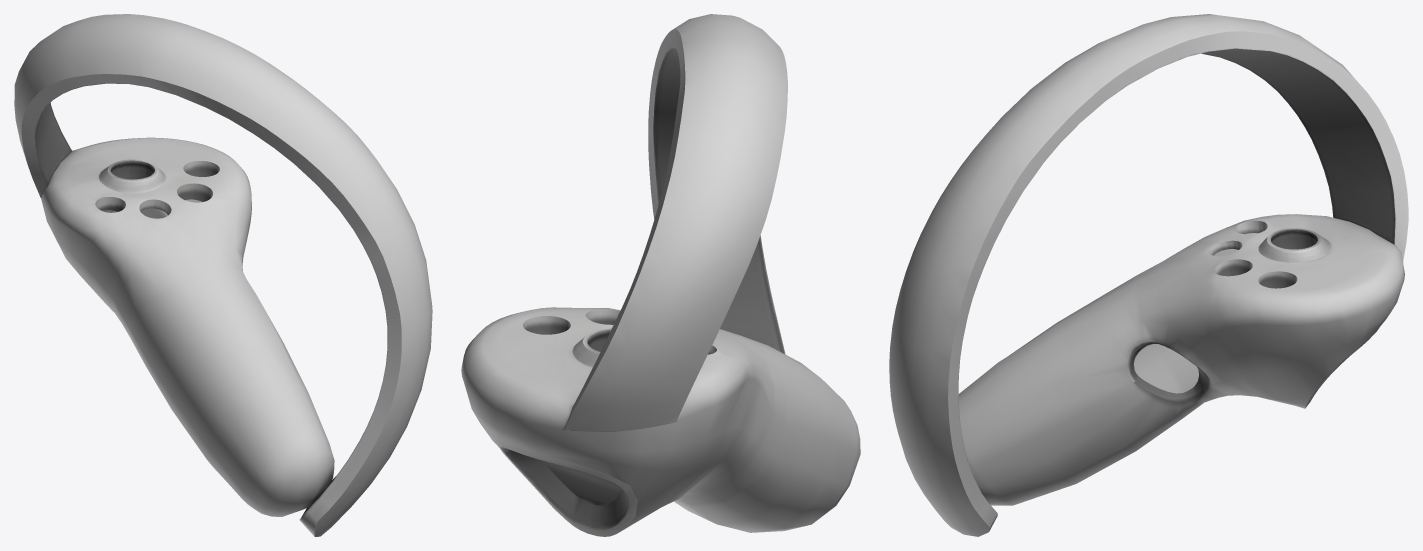
The picture shows the model from 3 angles, left to right: view 1: azimuth 30°, elevation 25°; view 2: azimuth 150°, elevation 25°; view 3: azimuth 270°, elevation 25°; orthographic projection. The views are drawn at different scales.
Size of the model in its own units: 0.0744 by 0.1341 by 0.1315.
Materials: 1 (1 with a texture image).
